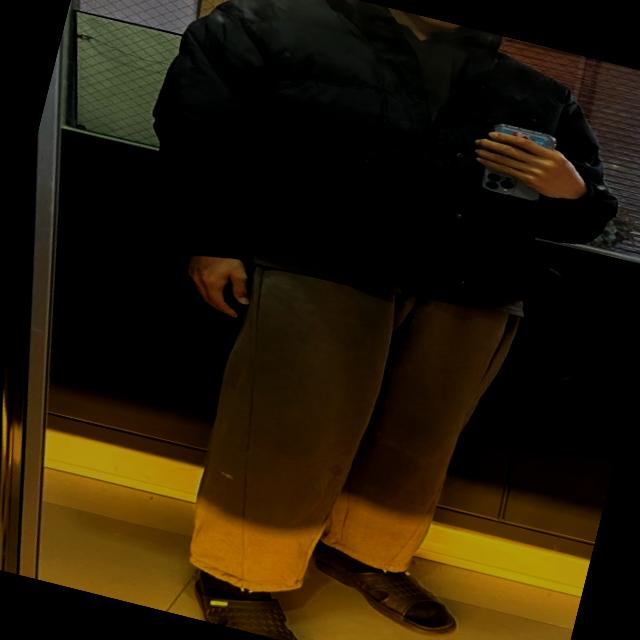cottonpants: (164, 243, 526, 640)
padding: (121, 0, 640, 344)
